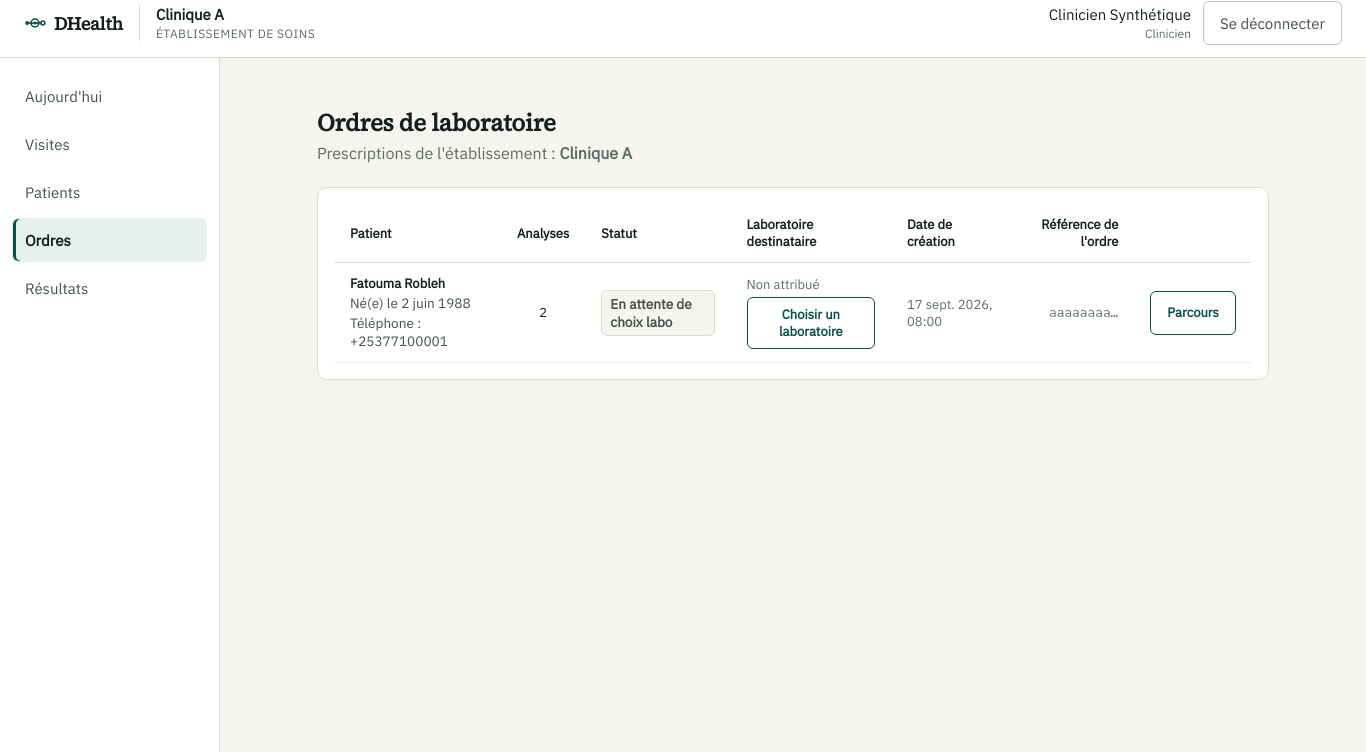
it: ClinicOrdersPage › OP3/§37: choosing a lab directly from this page loads patient+tests+lab and updates the row on success
The width and height of the screenshot is (1366, 752).
Click the button with aria-label "Choisir un laboratoire pour Fatouma Robleh".
click(811, 323)  # box [747,297,875,349]
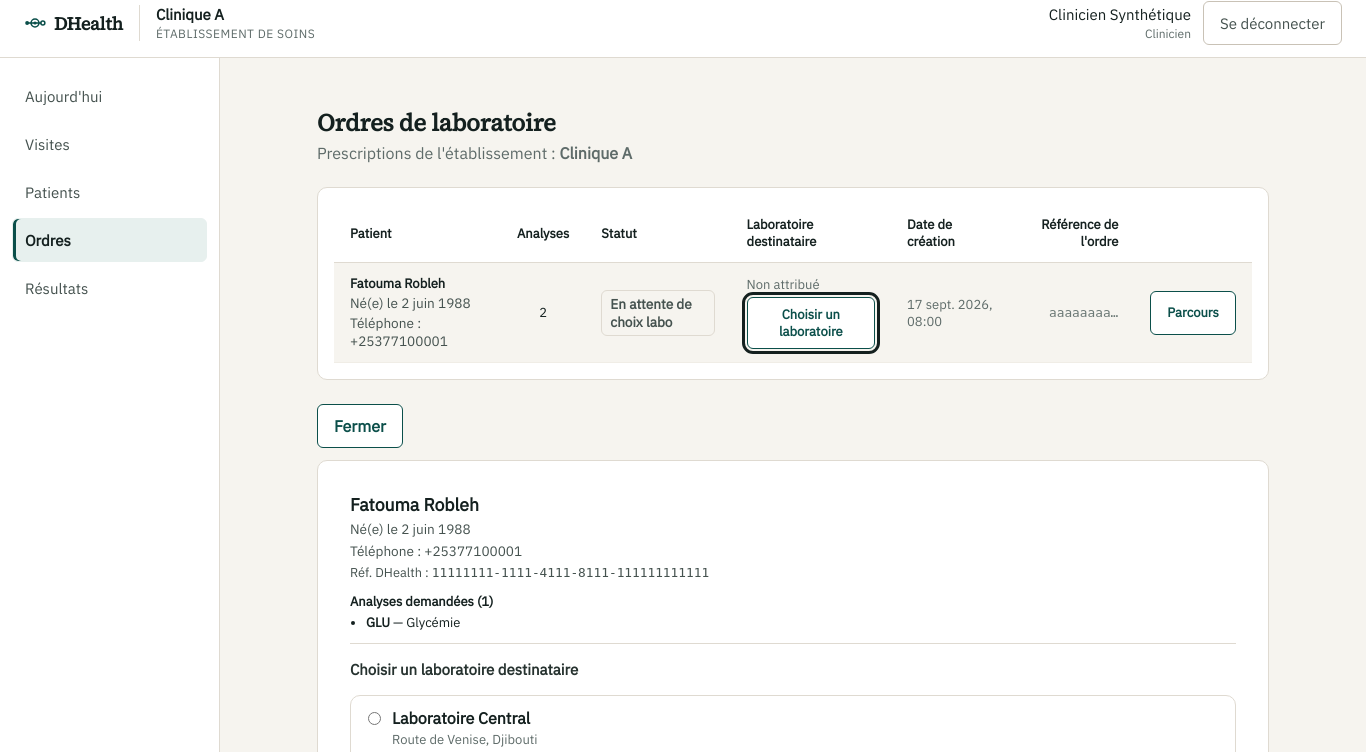
Now the text "Fatouma Robleh" is shown 2 times, box [350,275,445,292]; [350,493,479,516]
Now the list item "GLU — Glycémie" is shown, box [366,614,460,631]
Now the text "Laboratoire Central" is shown, box [392,708,530,728]
Click the radio button.
click(374, 718)  # box [368,712,381,725]
(page scrolled)
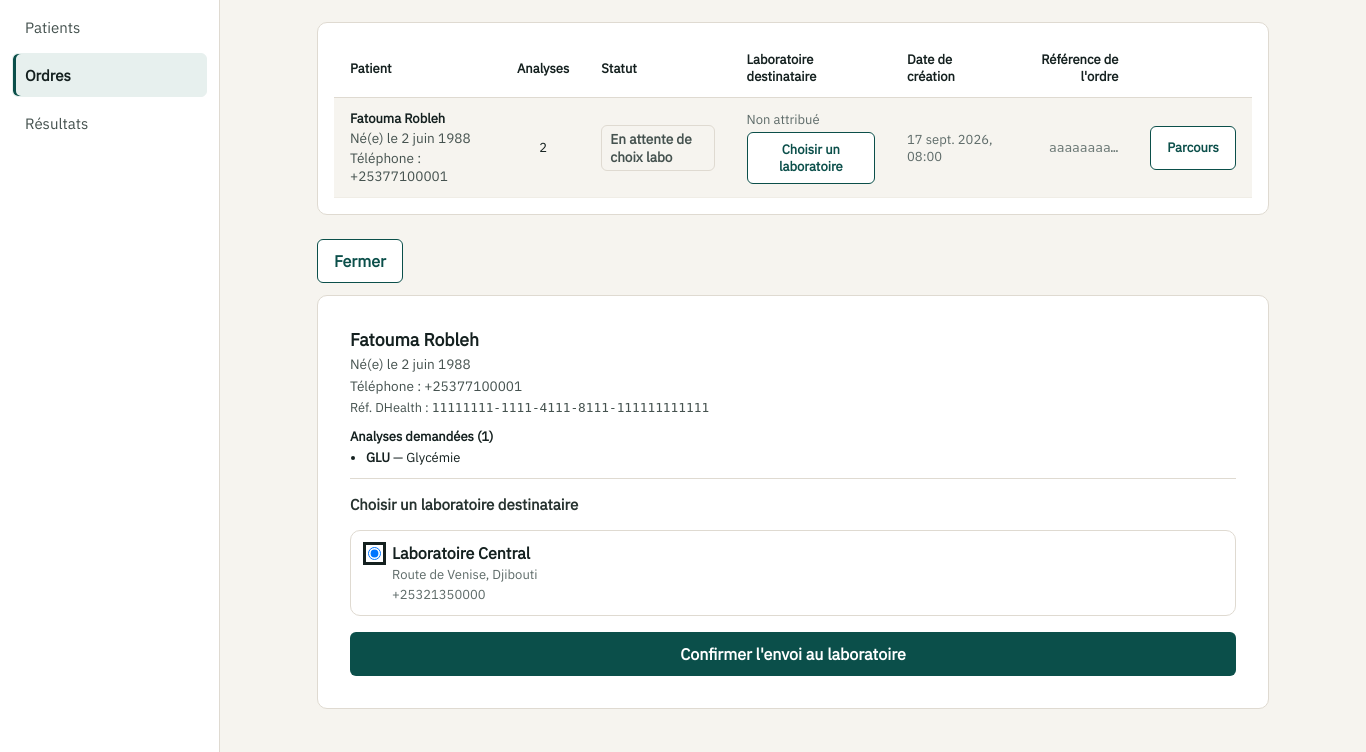
Click the button "Confirmer l'envoi au laboratoire".
click(793, 654)  # box [350,632,1236,676]
(page scrolled)
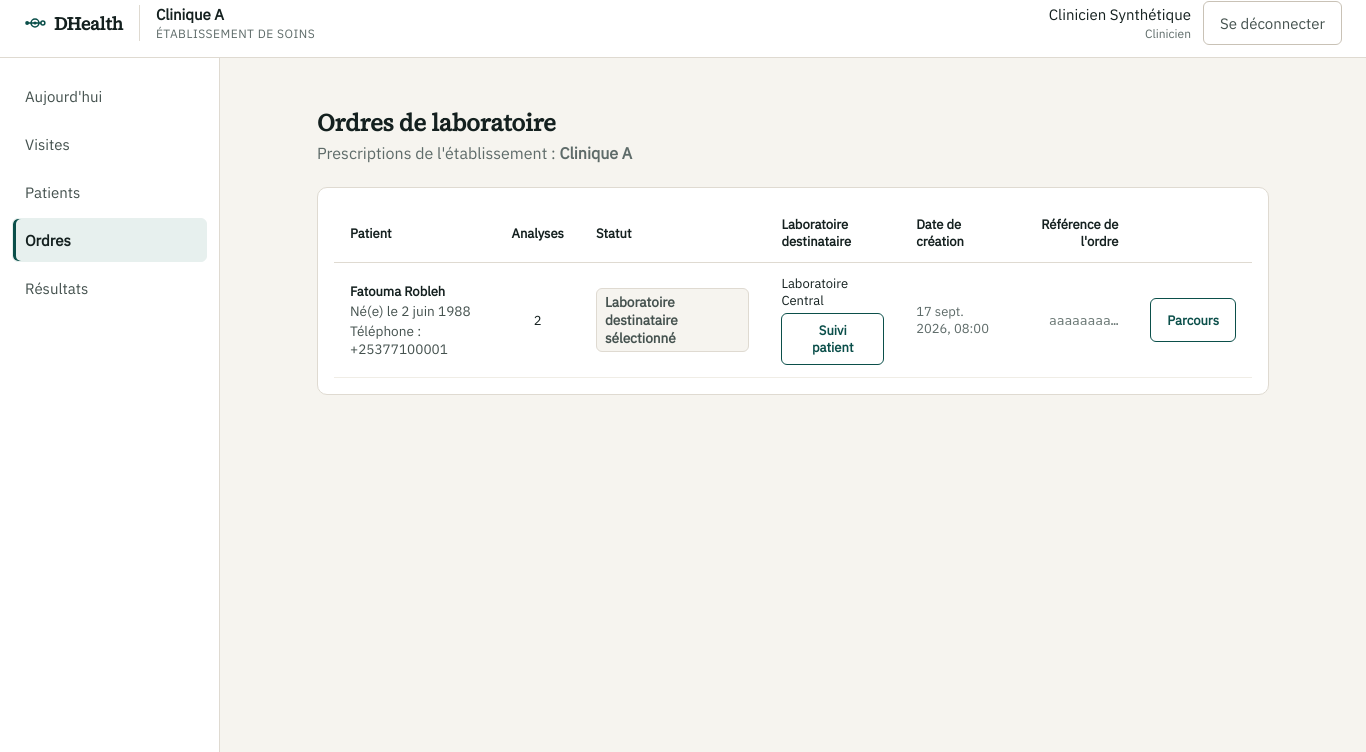
Now the text "Non attribué" is gone
